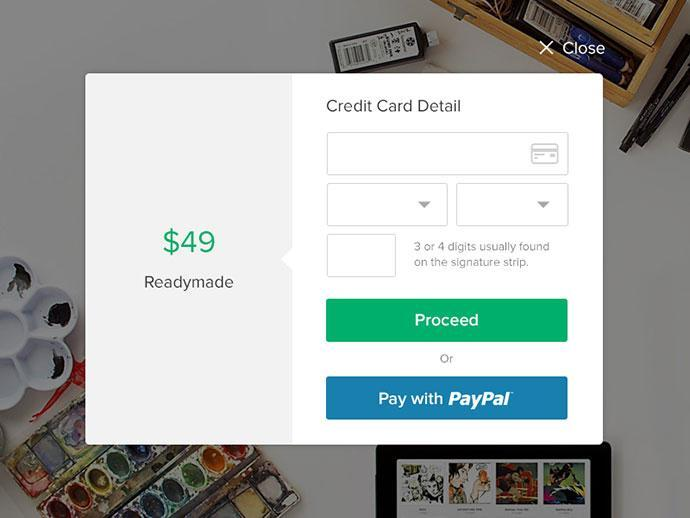button: (327, 375, 570, 422), (327, 298, 567, 345)
dropdown: (328, 182, 450, 228), (457, 184, 568, 227)
input: (329, 133, 570, 177), (327, 235, 396, 279)
label: (320, 93, 466, 115)
